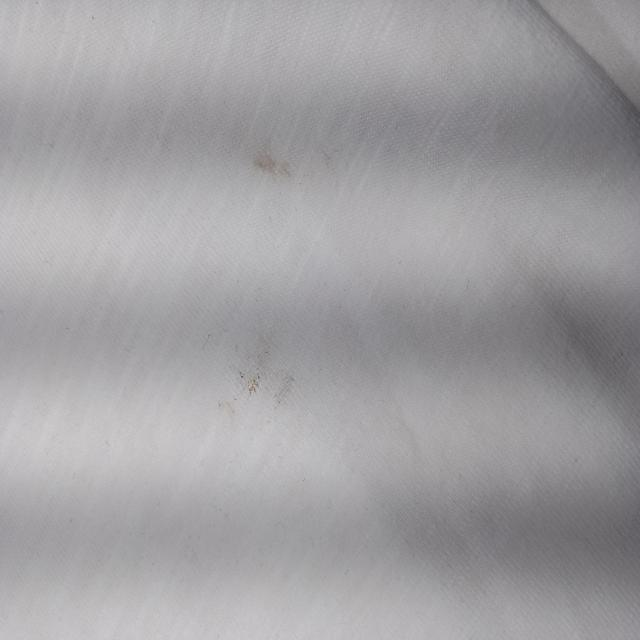Hole: (193, 329, 325, 443), (224, 125, 308, 201)
